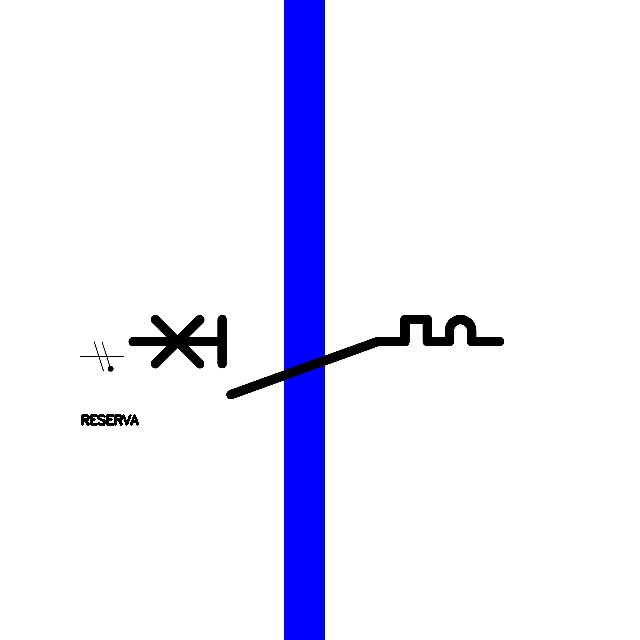interruptor_termomagnetico: (123, 310, 508, 404)
